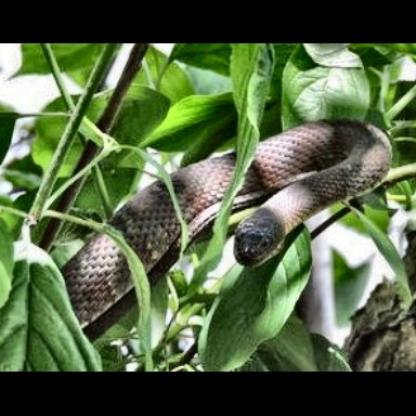Snake: (64, 113, 393, 309)
